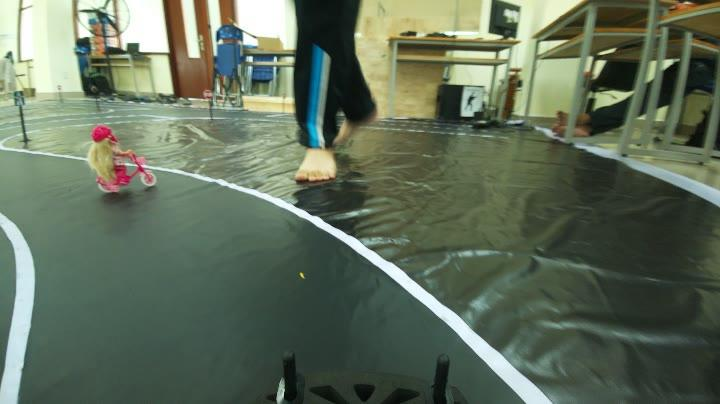pedestrian: (71, 117, 162, 212)
